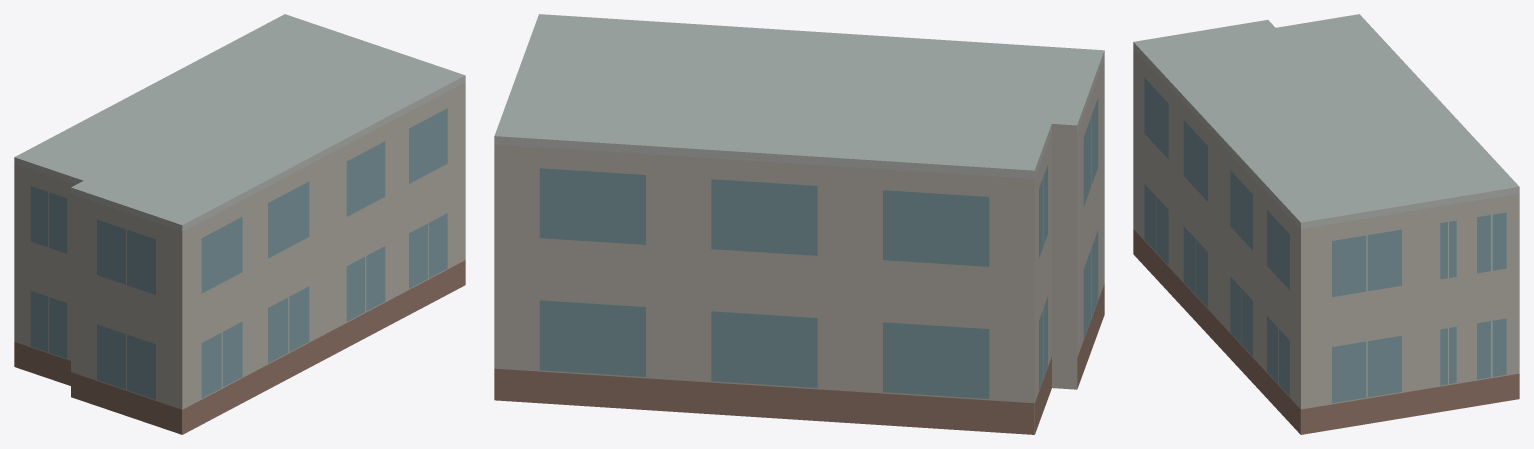
The model's file is survey-upis-32756191.glb.
3 renders of one model, left to right at view 1: azimuth 30°, elevation 25°; view 2: azimuth 150°, elevation 25°; view 3: azimuth 270°, elevation 25°, orthographic. The views are drawn at different scales.
Parts seen in each view (by area): view 1: survey-upis-32756191.tmp; view 2: survey-upis-32756191.tmp; view 3: survey-upis-32756191.tmp.
Boxes of the visible parts, left/top/right/bottom form: survey-upis-32756191.tmp: left=14, top=14, right=465, bottom=434; survey-upis-32756191.tmp: left=494, top=14, right=1104, bottom=434; survey-upis-32756191.tmp: left=1133, top=14, right=1519, bottom=434.
Size of the model in its own units: 16.66 by 7.9 by 13.04.
